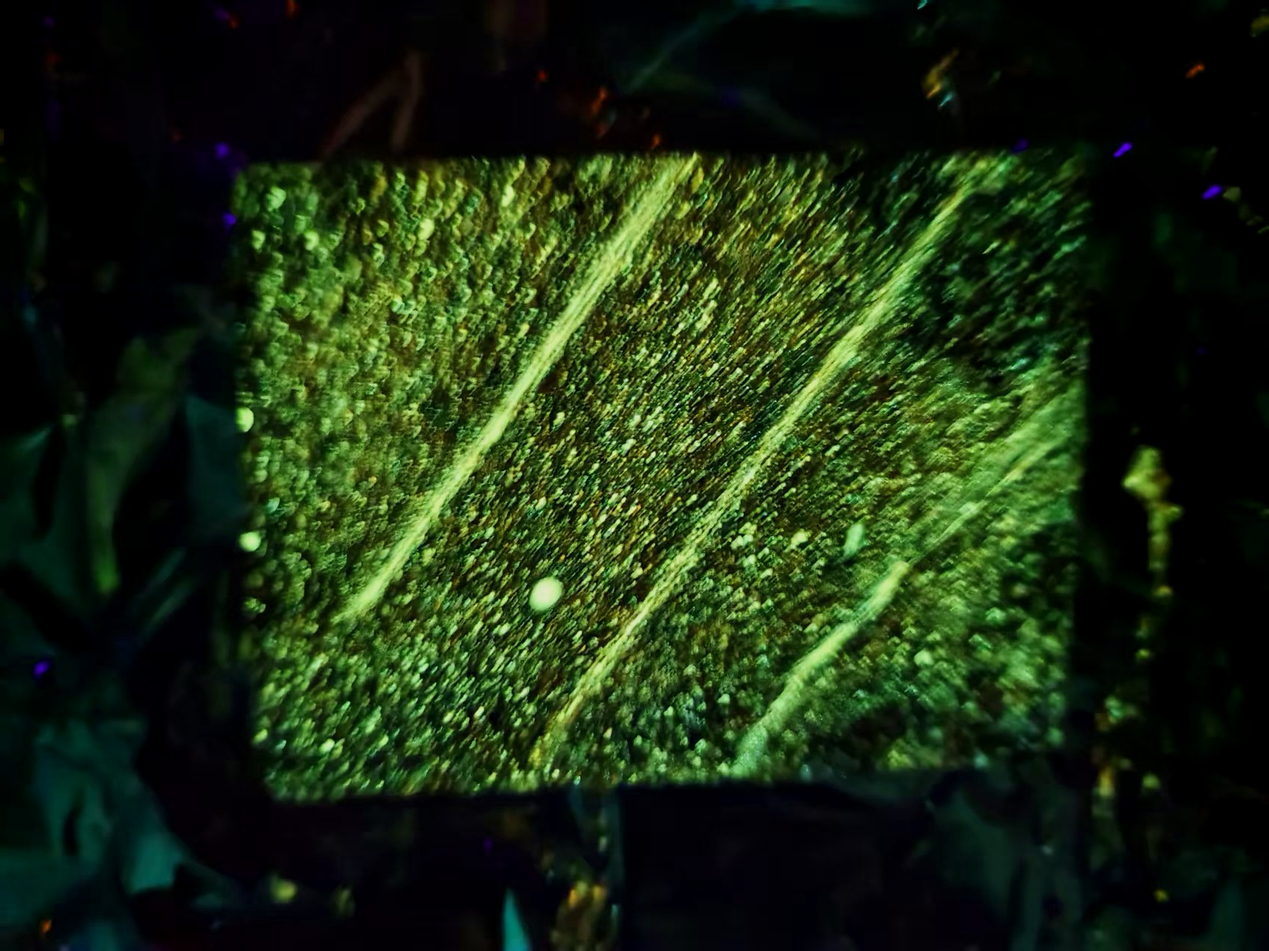Fissure: (515, 167, 987, 781), (337, 157, 702, 624), (731, 383, 1093, 784)
